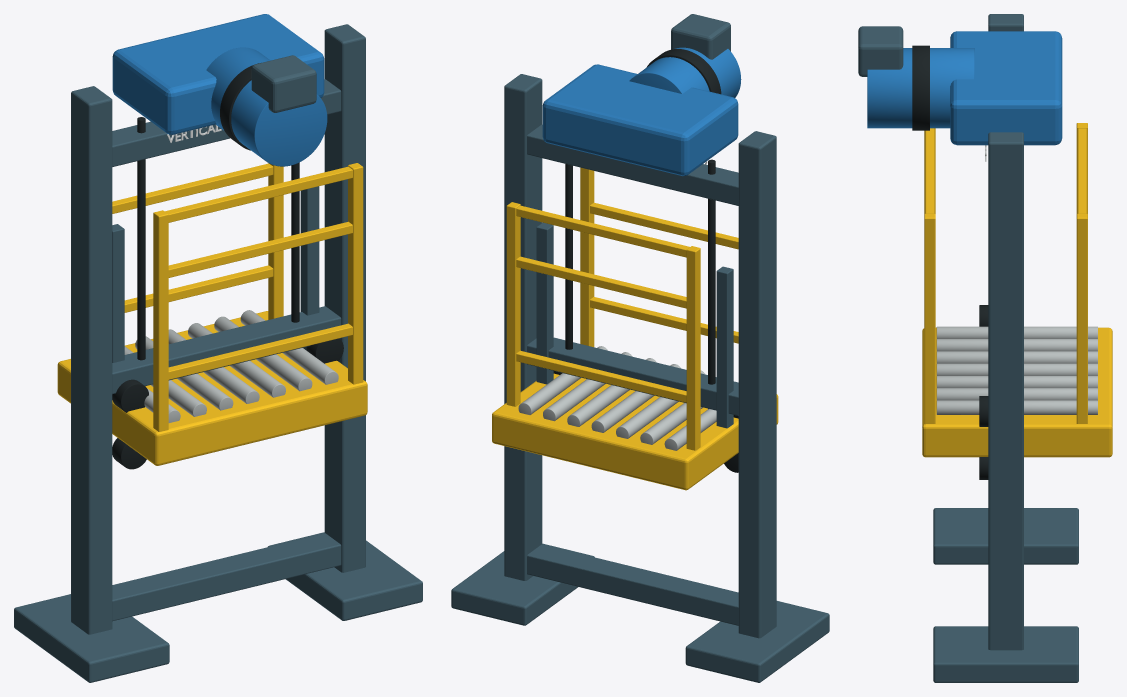
File: vertical_reciprocating_conveyor.glb
3 views of the same model, side by side, from view 1: azimuth 30°, elevation 25°; view 2: azimuth 150°, elevation 25°; view 3: azimuth 270°, elevation 25° (orthographic). The views are drawn at different scales.
Parts seen in each view (by area): view 1: MAST_-0.625, MAST_0.625, KIN_LIFT_CARRIAGE, TOP_DRIVE, MAST_BRACE_0.18, FOOT_-0.625, LIFT_DRIVE_MOTOR, FOOT_0.625, MAST_BRACE_1.25, CAGE_POST_REAR_-0.48, CAGE_POST_REAR_0.48, MAST_BRACE_2.32 (+21 smaller); view 2: MAST_-0.625, TOP_DRIVE, MAST_0.625, KIN_LIFT_CARRIAGE, MAST_BRACE_0.18, FOOT_-0.625, FOOT_0.625, MAST_BRACE_2.32, MAST_BRACE_1.25, CAGE_POST_-0.48, LIFT_DRIVE_MOTOR, CAGE_POST_0.48 (+19 smaller); view 3: MAST_0.625, TOP_DRIVE, KIN_LIFT_CARRIAGE, FOOT_0.625, FOOT_-0.625, LIFT_DRIVE_MOTOR, CAGE_POST_REAR_0.48, CAGE_POST_0.48, LIFT_DRIVE_TERMINAL, CARRIAGE_ROLLER_6, LIFT_DRIVE_FAN, CARRIAGE_ROLLER_1 (+9 smaller).
Part boxes in pixels (left/top/right/bottom): MAST_-0.625: left=71, top=86, right=112, bottom=634; MAST_0.625: left=324, top=24, right=365, bottom=572; KIN_LIFT_CARRIAGE: left=57, top=311, right=367, bottom=465; TOP_DRIVE: left=112, top=14, right=324, bottom=134; MAST_BRACE_0.18: left=112, top=533, right=341, bottom=621; FOOT_-0.625: left=14, top=594, right=169, bottom=682; LIFT_DRIVE_MOTOR: left=206, top=47, right=327, bottom=166; FOOT_0.625: left=268, top=532, right=422, bottom=620; MAST_BRACE_1.25: left=112, top=306, right=341, bottom=394; CAGE_POST_REAR_-0.48: left=153, top=210, right=168, bottom=431; CAGE_POST_REAR_0.48: left=348, top=163, right=363, bottom=384; MAST_BRACE_2.32: left=112, top=79, right=341, bottom=166; MAST_-0.625: left=738, top=131, right=776, bottom=638; TOP_DRIVE: left=542, top=64, right=738, bottom=176; MAST_0.625: left=504, top=74, right=542, bottom=580; KIN_LIFT_CARRIAGE: left=492, top=373, right=778, bottom=490; MAST_BRACE_0.18: left=527, top=544, right=738, bottom=625; FOOT_-0.625: left=685, top=601, right=829, bottom=682; FOOT_0.625: left=451, top=543, right=594, bottom=625; MAST_BRACE_2.32: left=527, top=124, right=738, bottom=205; MAST_BRACE_1.25: left=527, top=337, right=738, bottom=415; CAGE_POST_-0.48: left=686, top=246, right=700, bottom=450; LIFT_DRIVE_MOTOR: left=629, top=47, right=741, bottom=97; CAGE_POST_0.48: left=506, top=202, right=520, bottom=406; MAST_0.625: left=988, top=132, right=1023, bottom=650; TOP_DRIVE: left=950, top=31, right=1062, bottom=145; KIN_LIFT_CARRIAGE: left=922, top=327, right=1112, bottom=457; FOOT_0.625: left=933, top=626, right=1078, bottom=682; FOOT_-0.625: left=933, top=508, right=1078, bottom=564; LIFT_DRIVE_MOTOR: left=867, top=48, right=974, bottom=128; CAGE_POST_REAR_0.48: left=924, top=213, right=935, bottom=424; CAGE_POST_0.48: left=1076, top=213, right=1087, bottom=423; LIFT_DRIVE_TERMINAL: left=858, top=26, right=903, bottom=76; CARRIAGE_ROLLER_6: left=936, top=400, right=1097, bottom=414; LIFT_DRIVE_FAN: left=912, top=45, right=929, bottom=130; CARRIAGE_ROLLER_1: left=936, top=339, right=1097, bottom=351.
Size of the model in its own units: 1.65 by 2.81 by 1.14.
